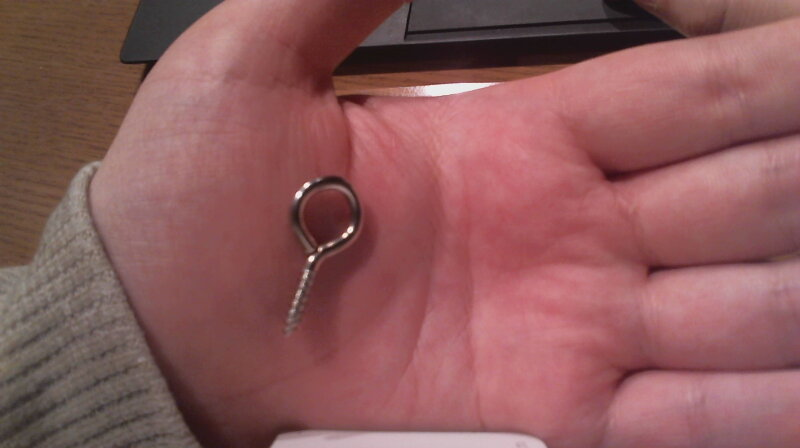O001: (278, 169, 369, 342)
